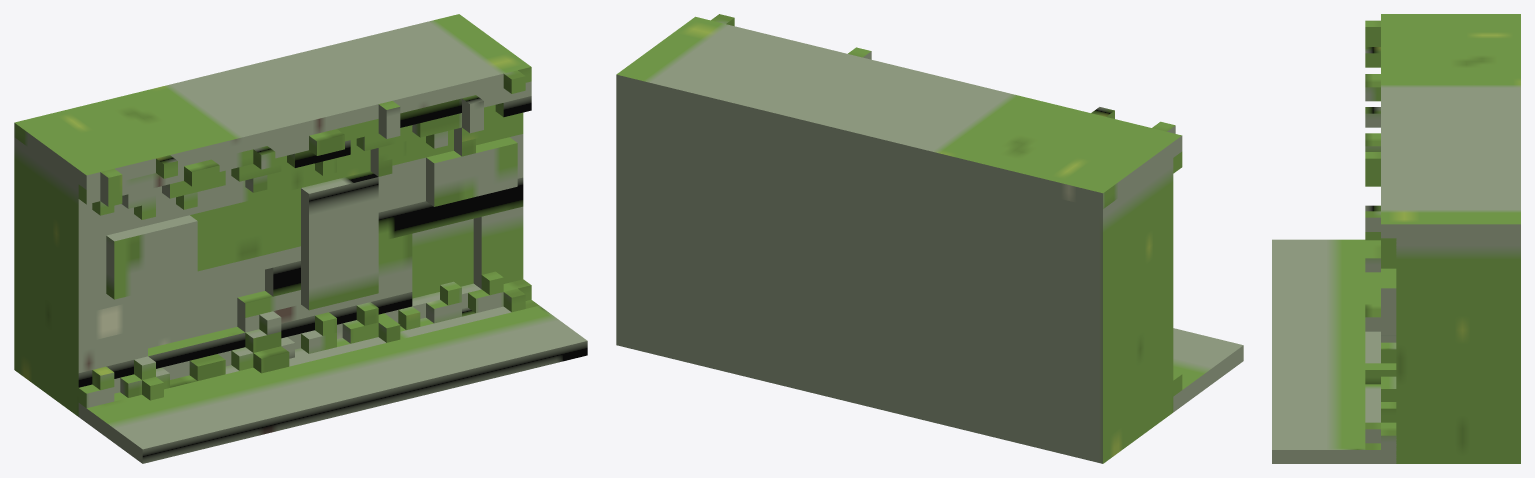
Rendered from Straight1.fbx.
The picture shows the model from 3 angles, left to right: view 1: azimuth 30°, elevation 25°; view 2: azimuth 150°, elevation 25°; view 3: azimuth 270°, elevation 25°; orthographic projection. The views are drawn at different scales.
Visible parts, largest first — view 1: Ground, Cliff; view 2: Cliff, Ground; view 3: Ground, Cliff.
Boxes of the visible parts, box(x1,y1,x2,y2) form: Ground: box(14, 14, 587, 463); Cliff: box(14, 105, 523, 416); Cliff: box(616, 90, 1173, 463); Ground: box(616, 14, 1243, 412); Ground: box(1272, 14, 1520, 463); Cliff: box(1381, 238, 1520, 463).
Bounding box in the file's own units: 32 × 17 × 16.
